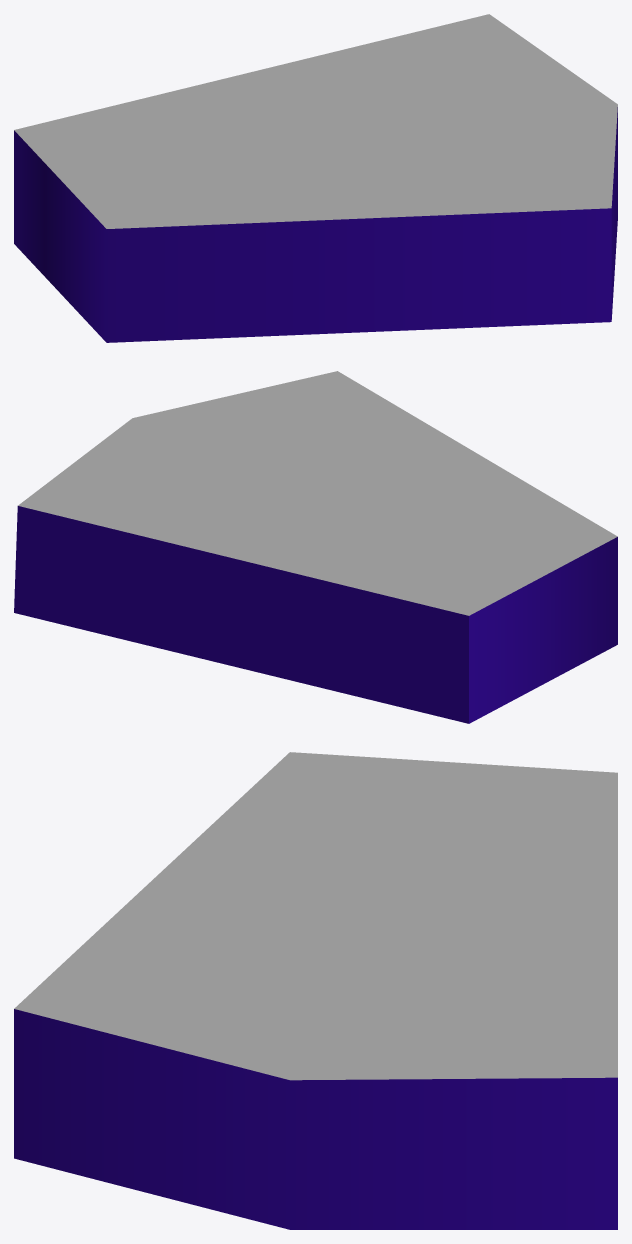
The model's file is Shard_S_5.fbx.
3 renders of one model, top to bottom at view 1: azimuth 30°, elevation 25°; view 2: azimuth 150°, elevation 25°; view 3: azimuth 270°, elevation 25°, orthographic. The views are drawn at different scales.
Parts seen in each view (by area): view 1: pCube1; view 2: pCube1; view 3: pCube1.
Boxes of the visible parts, x1=… form: pCube1: x1=14, y1=14, x2=617, y2=342; pCube1: x1=14, y1=371, x2=617, y2=723; pCube1: x1=14, y1=752, x2=617, y2=1229.
Size of the model in its own units: 2.24 by 0.4769 by 1.74.
